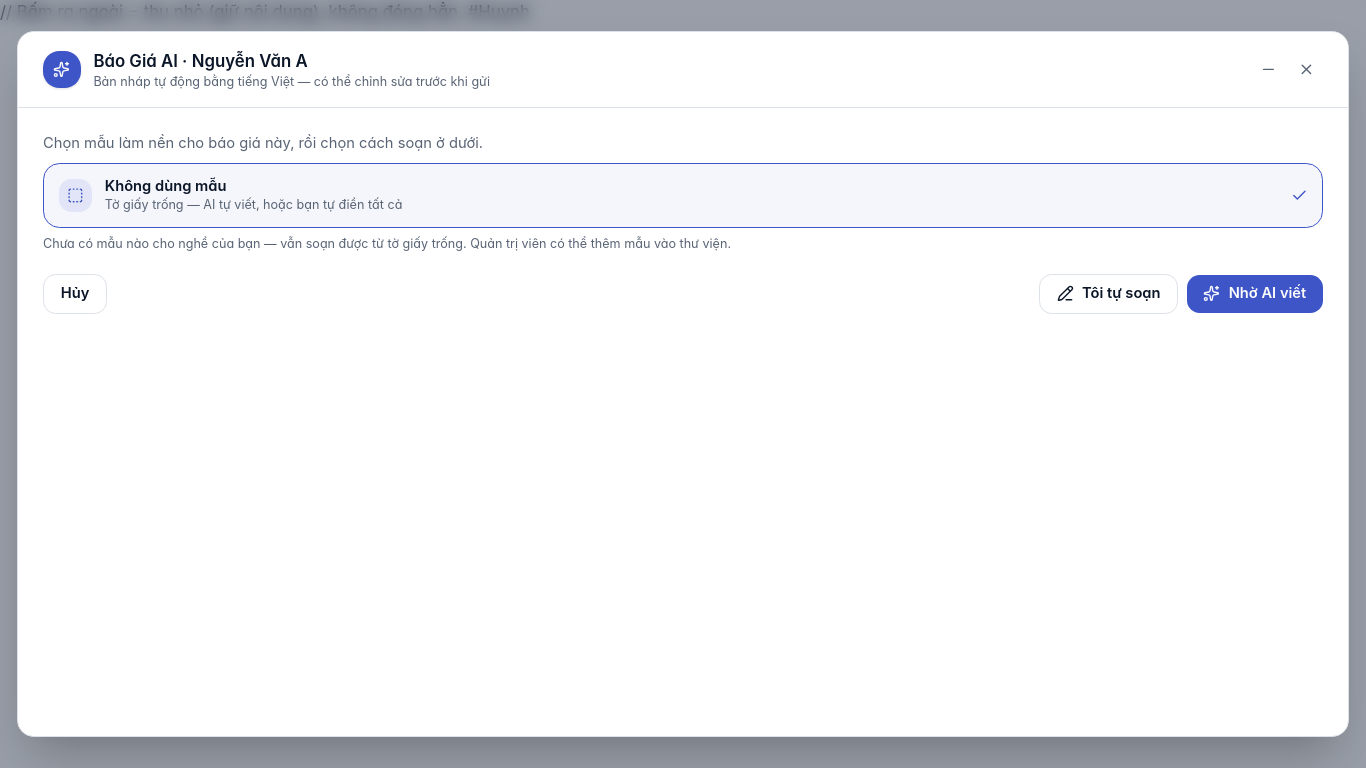
Test: ProposalModal › shows loading state while AI is generating
The width and height of the screenshot is (1366, 768).
Click the button "Nhờ AI viết".
click(1255, 294)  # box [1187, 275, 1323, 313]
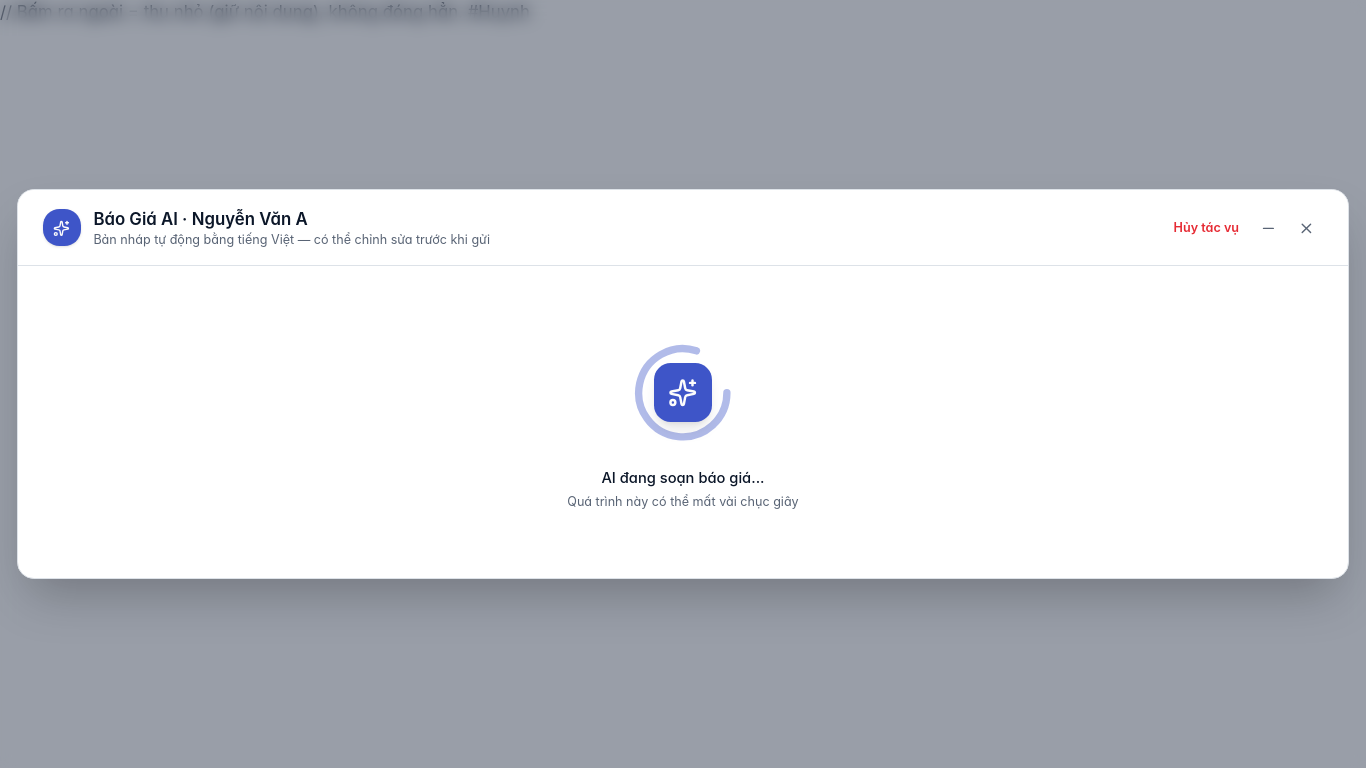
expect the message named "đang tạo báo giá" is shown: met, box [567, 334, 799, 509]
expect the text "AI đang soạn báo giá..." is shown: met, box [601, 468, 764, 490]
